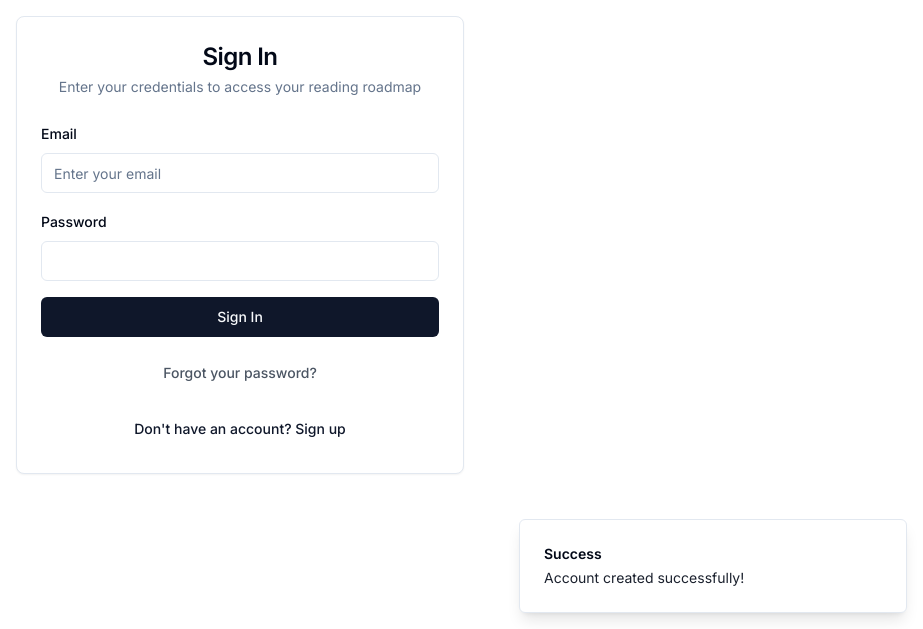
Test: Complete Authentication Flow › Registration Flow › should handle server errors during registration
The width and height of the screenshot is (923, 629).
Click the button "Don't have an account? Sign up" at (240, 429), box x1=118 y1=409 x2=362 y2=449
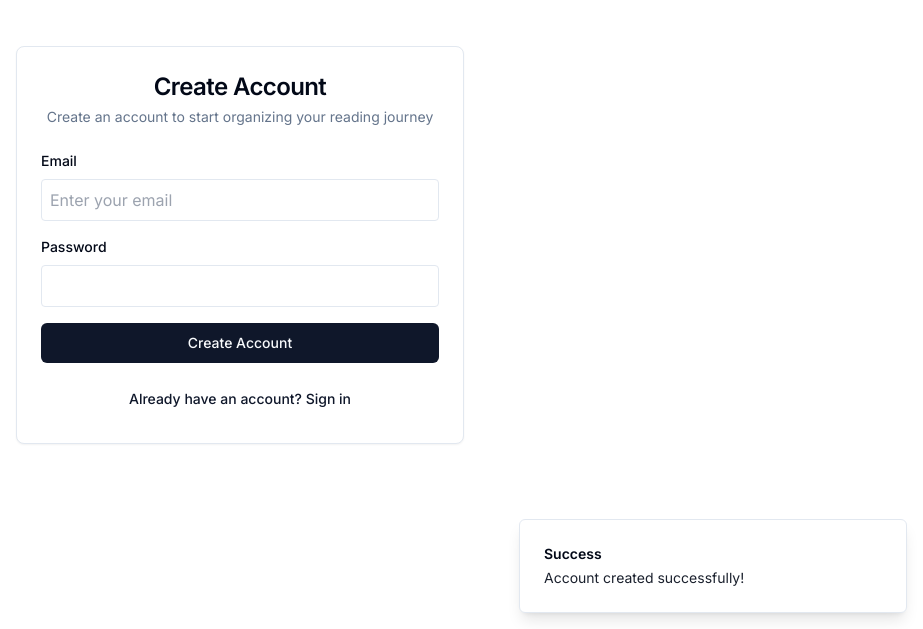
Type "test@example.com" into the field with placeholder "Enter your email" at (240, 200), box x1=41 y1=179 x2=439 y2=221
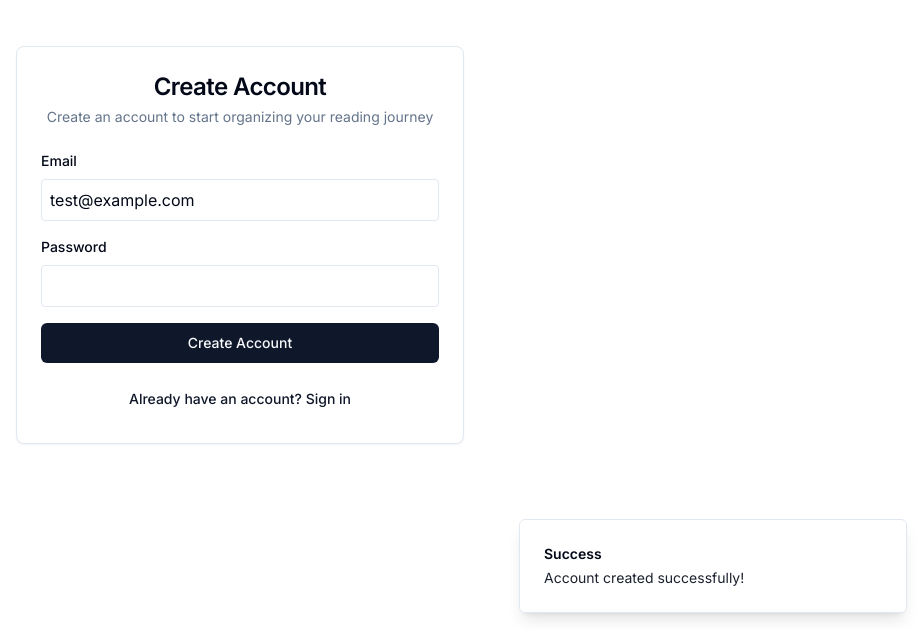
Type "password123" into the password field at (240, 286), box x1=41 y1=265 x2=439 y2=307
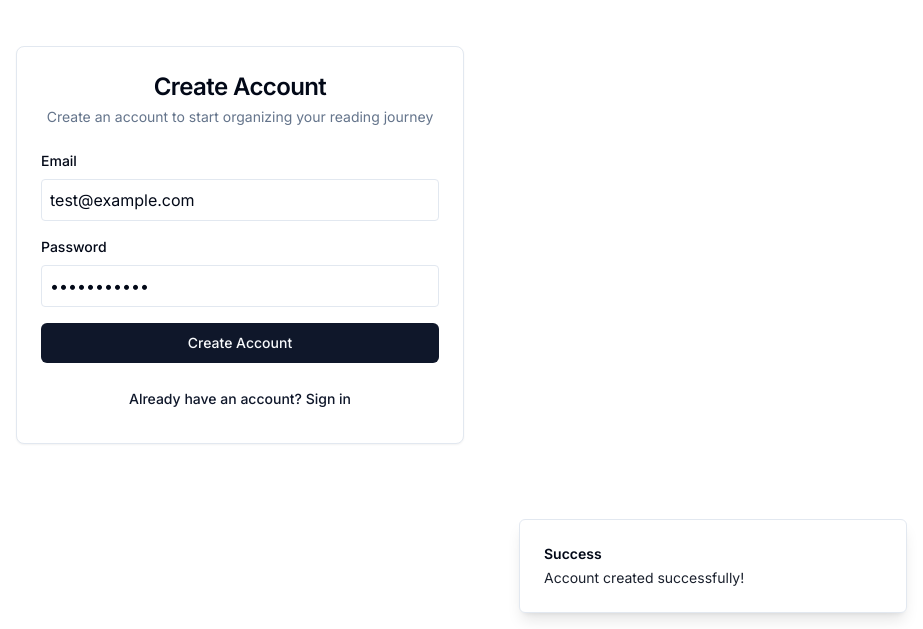
Click the button "Create Account" at (240, 343), box x1=41 y1=323 x2=439 y2=363
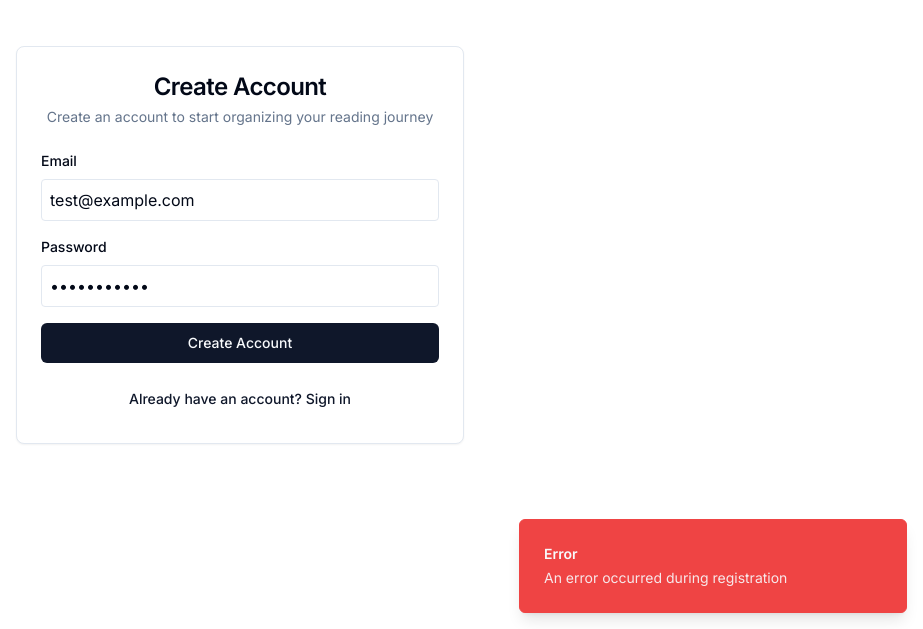
expect the text "Error" is shown: met, box x1=544 y1=545 x2=578 y2=562
expect the text "An error occurred during registration" is shown: met, box x1=544 y1=568 x2=787 y2=588
